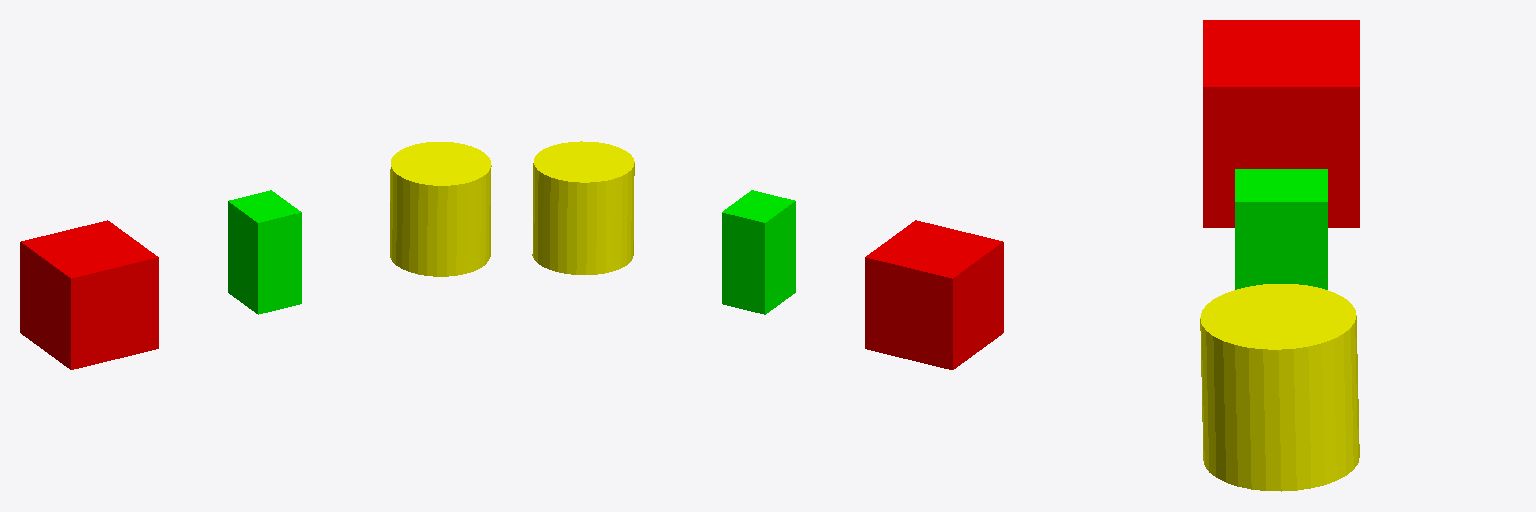
URDF robot description (verifying_elements):
<?xml version="1.0"?>
<robot name="verifying_elements" version="1.0">
  <material name="red">
    <color rgba="1.0 0.0 0.0 1"/>
  </material>
  <material name="green">
    <color rgba="0.0 1.0 0.0 1"/>
  </material>
  <material name="blue">
    <color rgba="0.0 0.0 1.0 1"/>
  </material>
  <material name="default">
    <color />  <!-- To test the default value, no attribute is provided here. -->
  </material>
  <material name="texture">
    <texture filename="assets/grid.png"/>
  </material>

  <link name="BaseLink">
    <inertial>
      <origin rpy="0 0 0" xyz="0 0 0.3" />
      <mass value="1"/>
      <inertia ixx="0.1" iyy="0.2" izz="0.3" ixy="0" ixz="0" iyz="0" />
    </inertial>
    <visual>
      <origin rpy="0 0 0" xyz="-2 0 0.5"/>

      <!-- Custom elements -->
      <custom>
        <item1 name="data1" value="1"/>
        <item2 name="data2" value="2"/>
        <data attr="attr foo">custom text</data>
      </custom>

      <geometry>
        <box size="1 1 1"/>
      </geometry>
      <material name="red"/>
    </visual>
  </link>
  <link name="link2">
    <visual data="custom_data">  <!-- With custom attribute -->
      <origin rpy="0 0 0" xyz="0 0 0.5"/>
      <geometry>
        <mesh filename="assets/box.obj" scale="0.5 0.6 1"/>
      </geometry>
      <material name="green"/>
    </visual>
    <collision>
      <origin rpy="0 0 0" xyz="0 0 0.5"/>
      <geometry>
        <mesh filename="assets/box.stl" scale="0.5 0.6 1"/>
      </geometry>
    </collision>
  </link>
  <link name="link3">
    <visual>
      <origin xyz="2 0 0.5"/>  <!-- Omit rpy -->
      <geometry>
        <cylinder radius="0.5" length="1"/>
      </geometry>
      <material name="yellow"> <!-- New materials that do not exist in the global materials -->
        <color rgba="1.0 1.0 0.0 1"/>
      </material>
    </visual>
    <collision>
      <origin xyz="2 0 0.5"/>  <!-- Omit rpy -->
      <geometry>
        <mesh filename="assets/box.stl" scale="0.5 0.6 1"/>
      </geometry>
      <verbose value="verbose_data"/>
    </collision>
  </link>

  <joint name="JointA" type="fixed">
    <parent link="BaseLink"/>
    <child link="link2" />
  </joint>
  <joint name="JointB" type="fixed">
    <origin rpy="0.02 0 0" xyz="0 0 0.01"/>
    <parent link="link2"/>
    <child link="link3" />
    <axis xyz="0 1 0"/>
    <calibration rising="0.3" falling="0.2" reference_position="0.1"/>
    <dynamics damping="0.0" friction="0.0"/>
    <limit effort="30" velocity="1.0" lower="-2.2" upper="0.7" />
    <safety_controller k_velocity="10" k_position="15" soft_lower_limit="-2.0" soft_upper_limit="0.5" />
    <mimic joint="JointA" multiplier="2.0" offset="1.0"/>
  </joint>

  <transmission name="simple_trans">
    <type>transmission_interface/SimpleTransmission</type>
    <joint name="foo_joint">
      <hardwareInterface>EffortJointInterface</hardwareInterface>
    </joint>
    <actuator name="foo_motor">
      <mechanicalReduction>50</mechanicalReduction>
      <hardwareInterface>EffortJointInterface</hardwareInterface>
    </actuator>
  </transmission>

  <gazebo>
    <static>true</static>
  </gazebo>
</robot>

--- Facts derived from the render (not from the file) ---
3 views of the same robot in one strip: view 1: azimuth 30°, elevation 25°; view 2: azimuth 150°, elevation 25°; view 3: azimuth 270°, elevation 25° (orthographic).
Model verifying_elements with 3 links and 2 joints (2 fixed), rooted at BaseLink, posed every joint at zero.
Visible links, largest first — view 1: BaseLink, link3, link2; view 2: BaseLink, link3, link2; view 3: link3, BaseLink, link2.
Boxes of the visible links, box(x1,y1,x2,y2) form: BaseLink: box(20, 220, 158, 369); link3: box(390, 142, 491, 276); link2: box(228, 190, 301, 314); BaseLink: box(865, 220, 1003, 369); link3: box(532, 141, 634, 274); link2: box(722, 190, 795, 314); link3: box(1200, 284, 1359, 491); BaseLink: box(1203, 20, 1359, 227); link2: box(1235, 169, 1327, 289).
Bounding box of the posed robot: 5 × 1.02 × 1.02 m (x, y, z).
Meshes: 1 distinct files referenced, 1 mesh visuals loaded (1 OBJ).